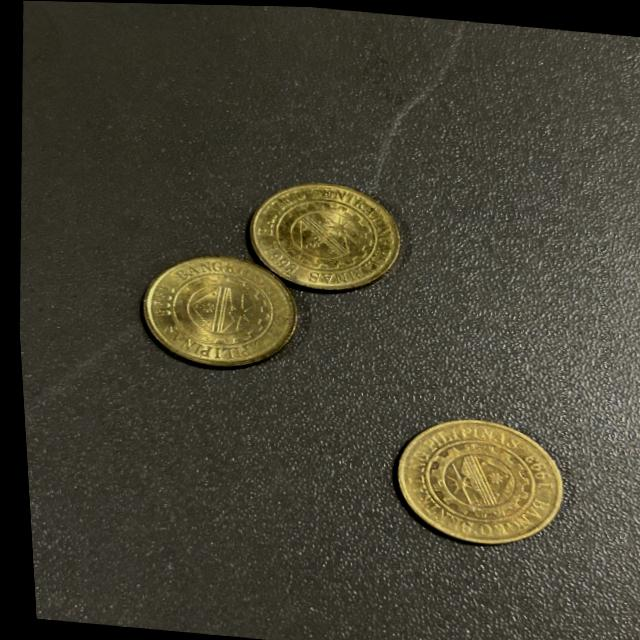25Cent_Old_Back: (408, 426, 558, 543), (145, 262, 283, 366), (262, 184, 382, 281)
